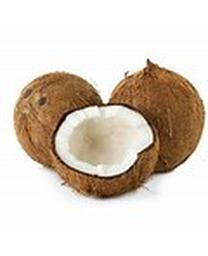coconut: (48, 102, 160, 198), (108, 65, 204, 175), (13, 71, 106, 171)
